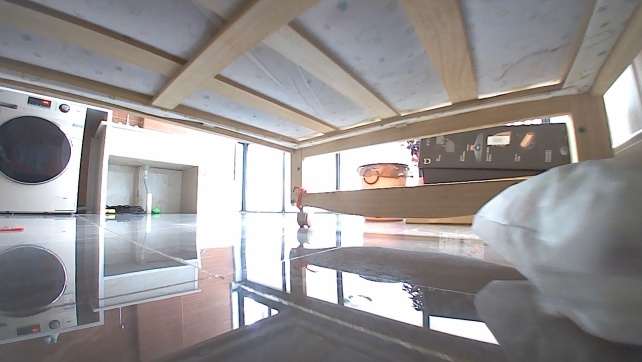washing_machine: (0, 87, 89, 215)
